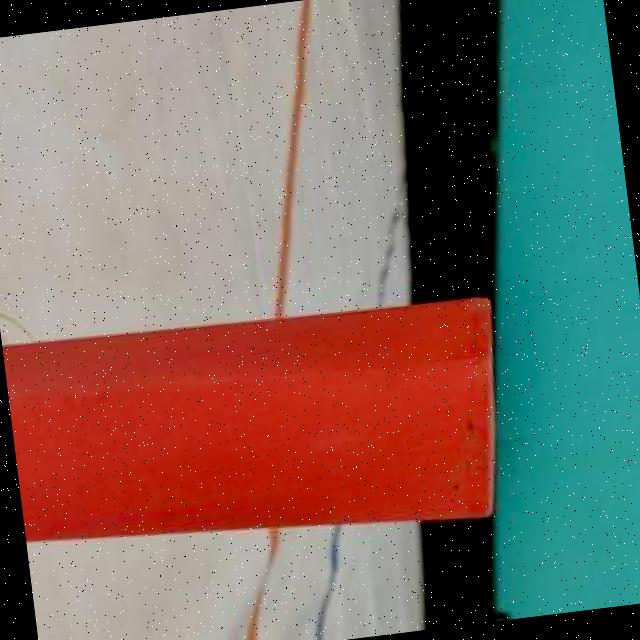redbox: (1, 284, 516, 570)
